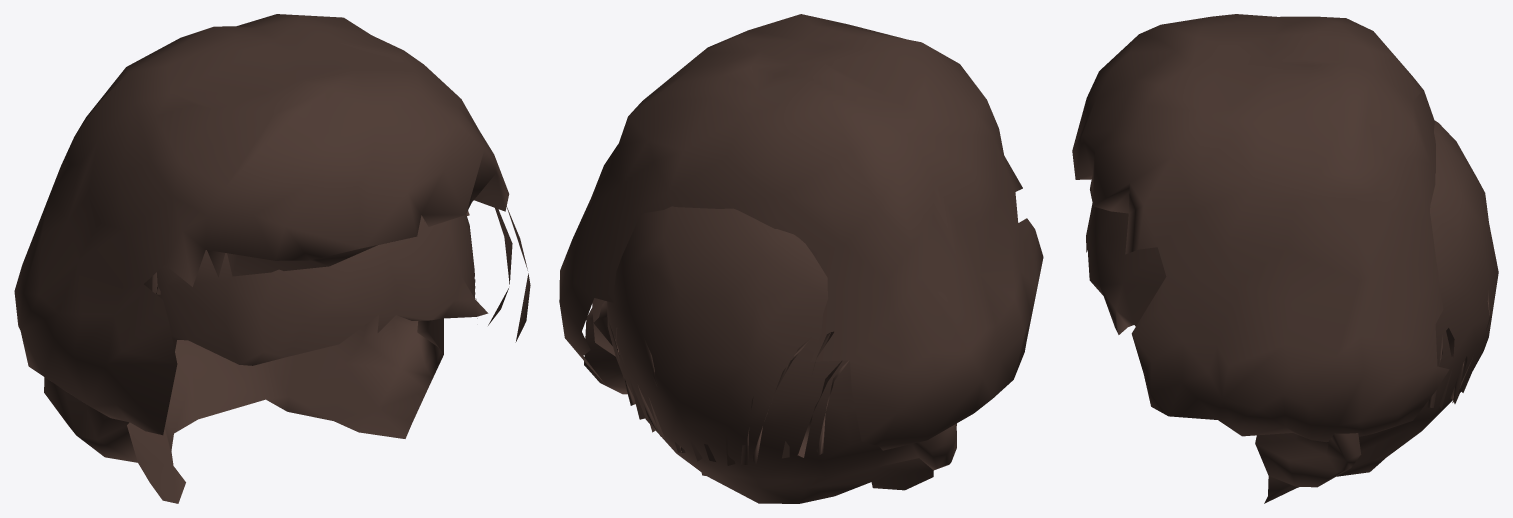
The model's file is blunt-bob.glb.
3 renders of one model, left to right at view 1: azimuth 30°, elevation 25°; view 2: azimuth 150°, elevation 25°; view 3: azimuth 270°, elevation 25°, orthographic. The views are drawn at different scales.
Visible parts, largest first — view 1: Hair, HairScalp; view 2: Hair, HairScalp, HairPulledRootStrands; view 3: Hair, HairScalp, HairPulledRootStrands.
Part boxes in pixels (x1,y1,x2,y2): Hair: (14, 14, 530, 435); HairScalp: (44, 214, 488, 503); Hair: (559, 14, 1043, 450); HairScalp: (584, 206, 956, 503); HairPulledRootStrands: (609, 323, 849, 465); Hair: (1072, 14, 1449, 442); HairScalp: (1086, 120, 1498, 503); HairPulledRootStrands: (1427, 290, 1491, 409).
Size of the model in its own units: 0.5262 by 0.4902 by 0.457.
